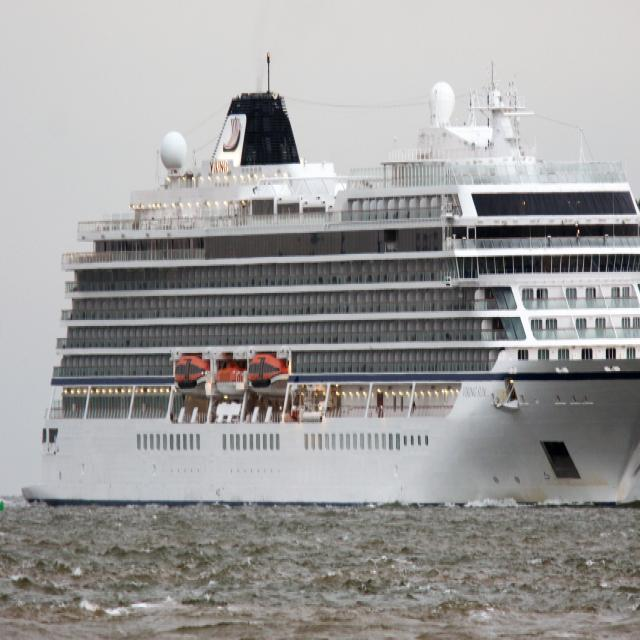cruises: (19, 46, 640, 522)
